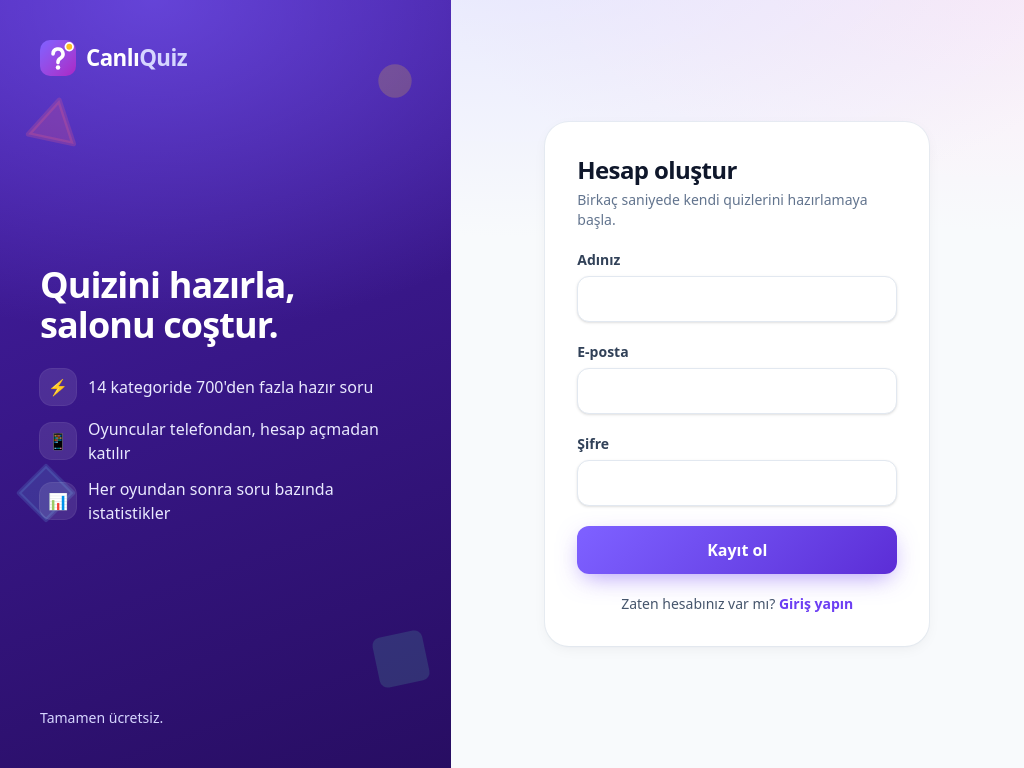
Test case: kayıt ve giriş › kayıt formundaki hataları sunucuya gitmeden alanların altında gösterir
Type "Orospu" into the field labelled "Adınız" at (737, 299), box x1=577 y1=276 x2=897 y2=322
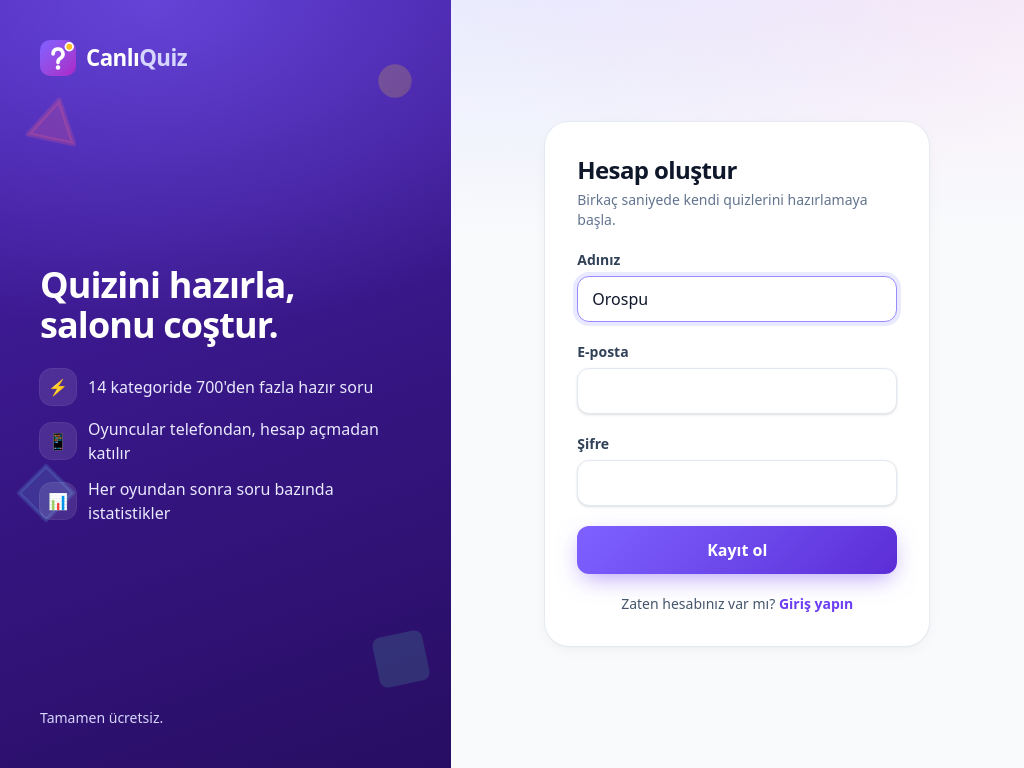
Type "gecersiz-eposta" into the field labelled "E-posta" at (737, 391), box x1=577 y1=368 x2=897 y2=414
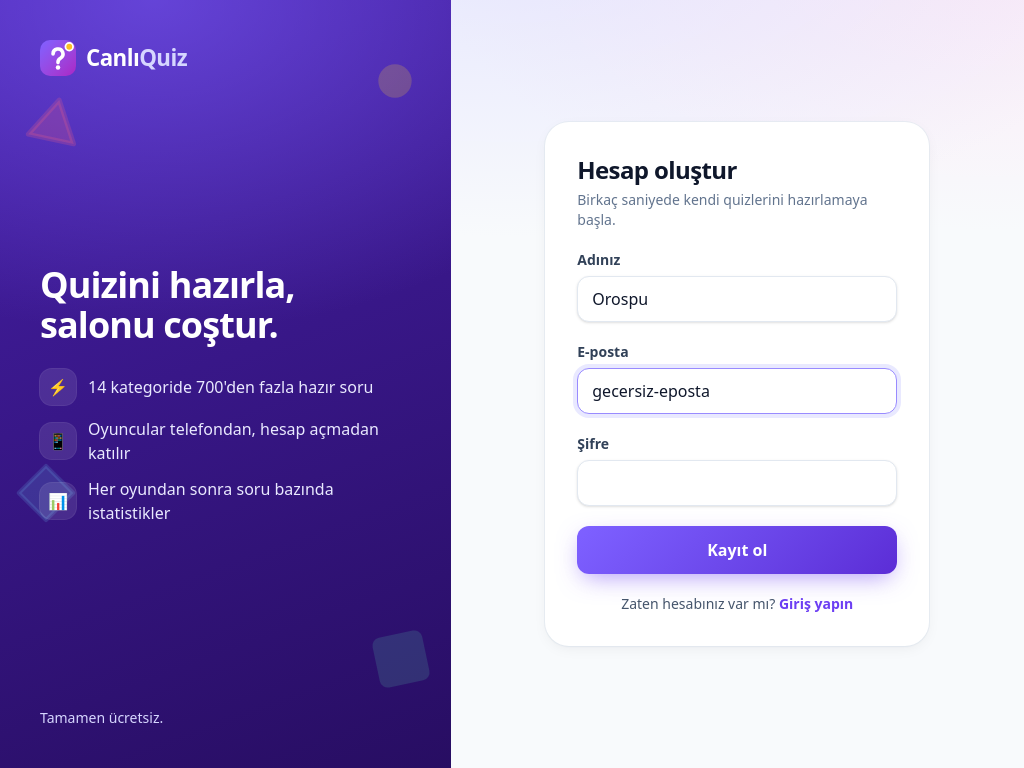
Type "kisa" into the password field labelled "Şifre" at (737, 483), box x1=577 y1=460 x2=897 y2=506
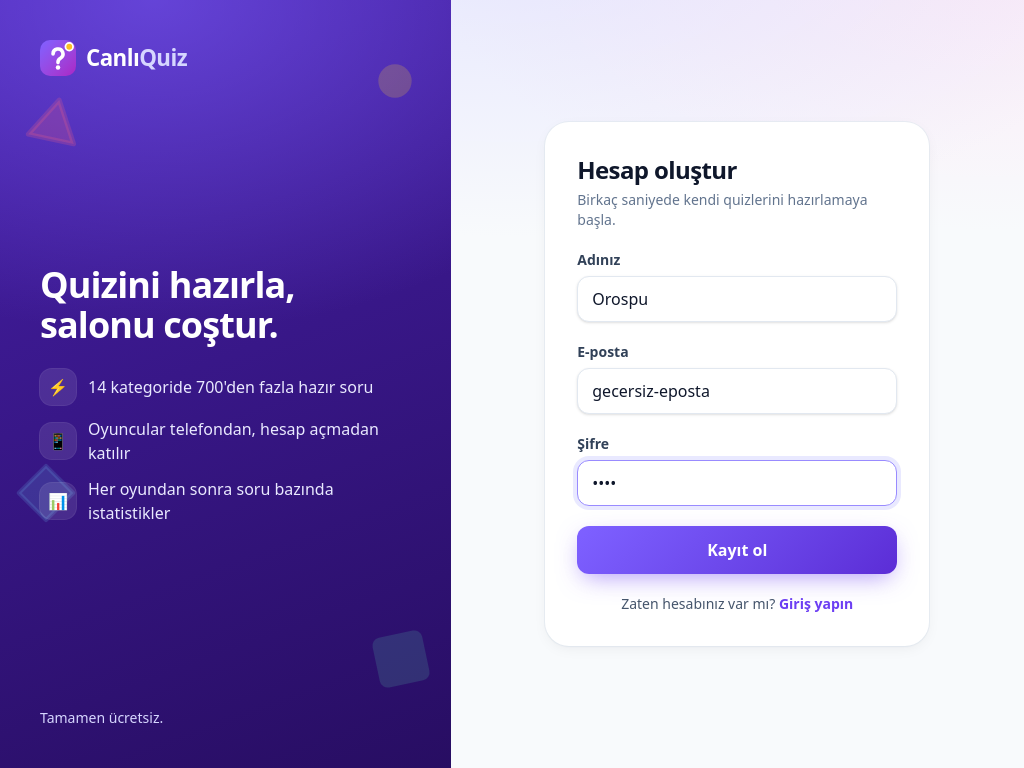
Click the button "Kayıt ol" at (737, 550), box x1=577 y1=526 x2=897 y2=574
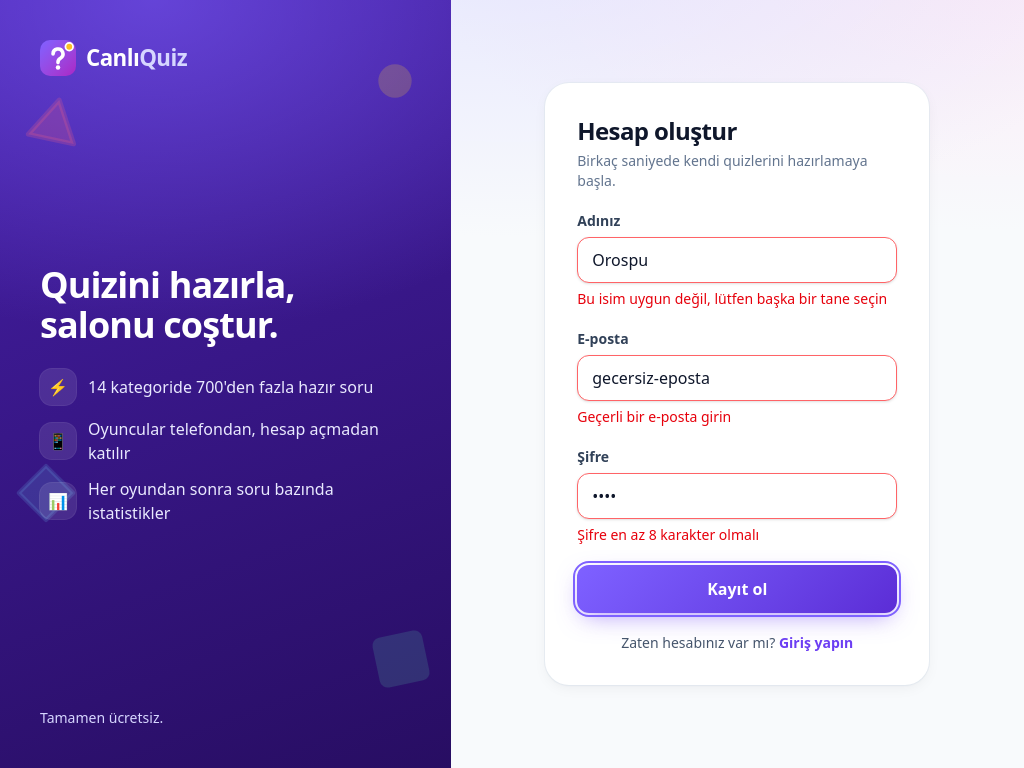
Expected: the text "Bu isim uygun değil, lütfen başka bir tane seçin" is shown, x1=577 y1=289 x2=897 y2=309
Expected: the text "Geçerli bir e-posta girin" is shown, x1=577 y1=407 x2=731 y2=426
Expected: the text "Şifre en az 8 karakter olmalı" is shown, x1=577 y1=525 x2=759 y2=544
